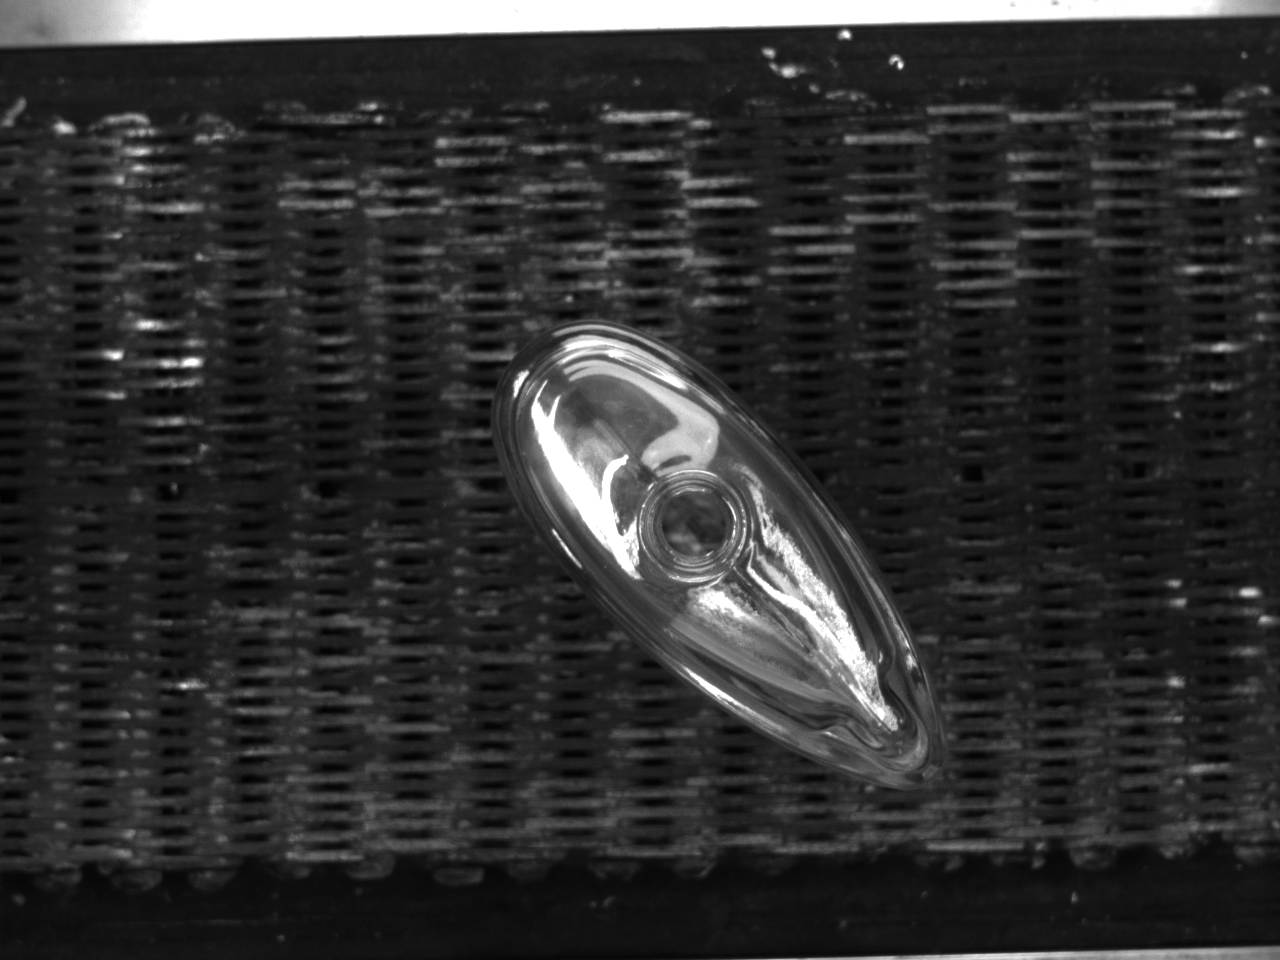bottleneck: (641, 469, 748, 578)
